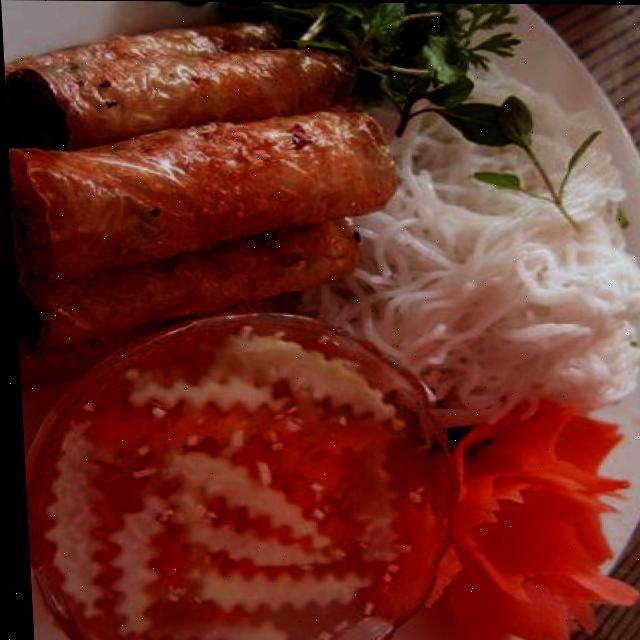炸货点心: (1, 0, 423, 392)
